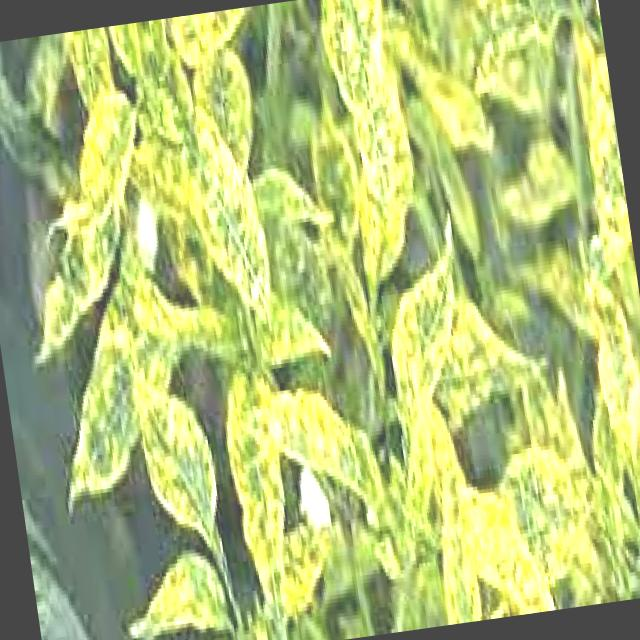yellowish leaf: (6, 2, 364, 626), (254, 0, 585, 623), (386, 0, 623, 307), (117, 23, 290, 357), (486, 355, 616, 611), (559, 8, 637, 284), (448, 474, 559, 622), (451, 0, 580, 126), (61, 81, 153, 241), (574, 265, 640, 461), (114, 17, 200, 162), (0, 39, 75, 200), (522, 357, 593, 488), (194, 43, 262, 178), (19, 33, 82, 140), (66, 27, 121, 118)
